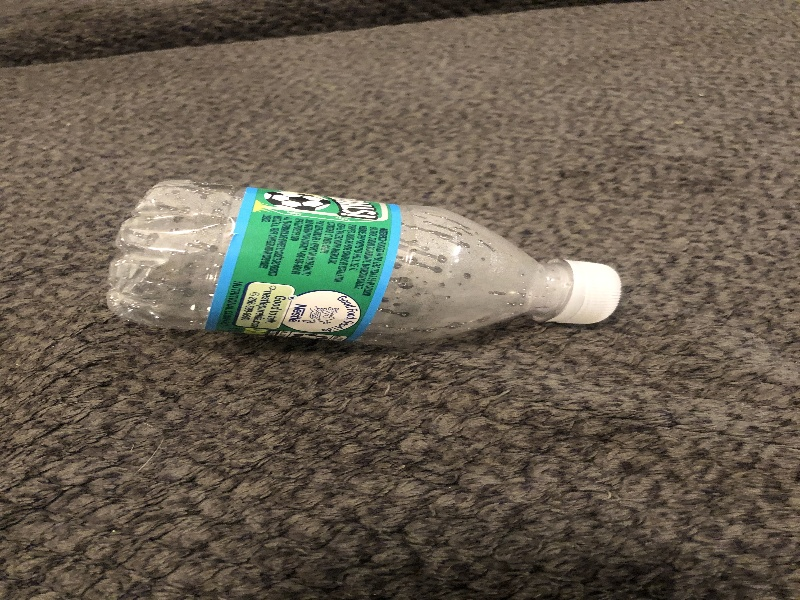plastic: (105, 177, 633, 352)
